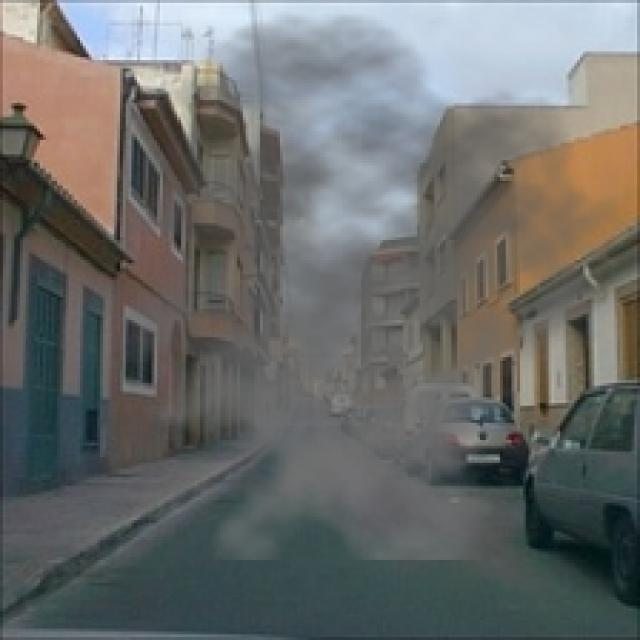Smoke: (57, 11, 626, 560)
